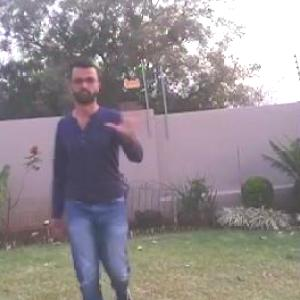follow_hand: (106, 100, 150, 138)
